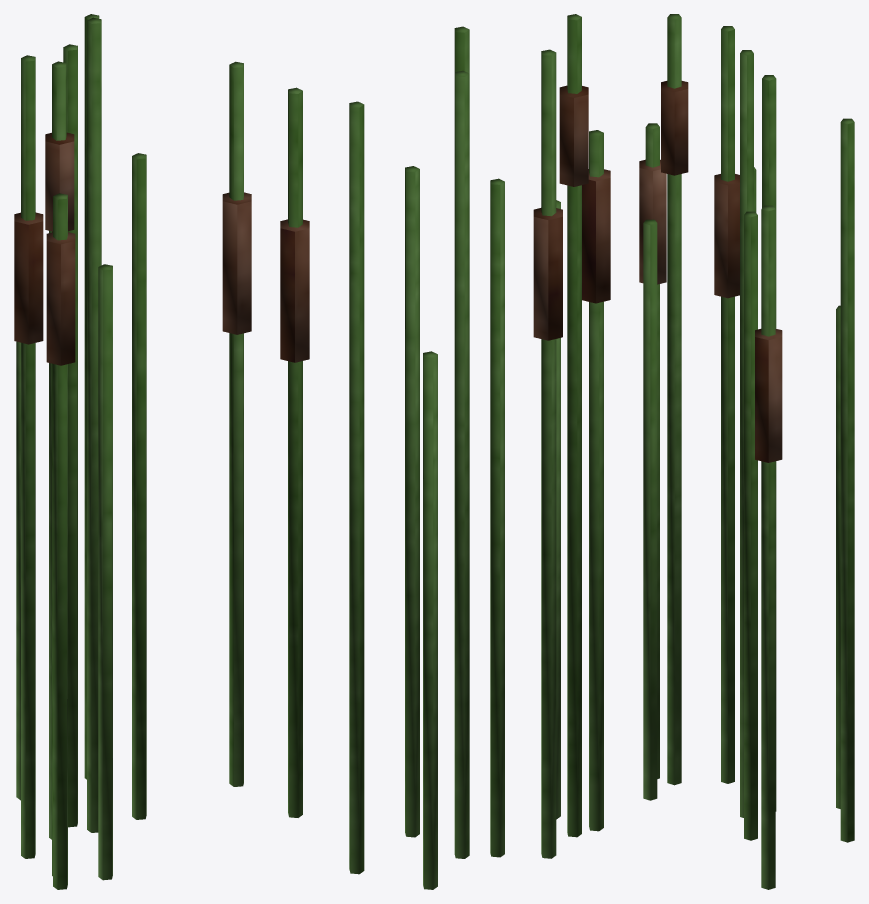
File: reeds_1.glb
3 renders of one model, left to right at view 1: azimuth 30°, elevation 25°; view 2: azimuth 150°, elevation 25°; view 3: azimuth 270°, elevation 25°, orthographic. The views are drawn at different scales.
Visible parts, largest first — view 1: reeds_1; view 2: reeds_1; view 3: reeds_1.
Part boxes in pixels (bbox=[...]): reeds_1: bbox=[14, 14, 251, 889]; reeds_1: bbox=[280, 14, 610, 889]; reeds_1: bbox=[639, 14, 854, 889].
Size of the model in its own units: 0.7002 by 2.04 by 0.5197.
Materials: 2 (2 with a texture image).
